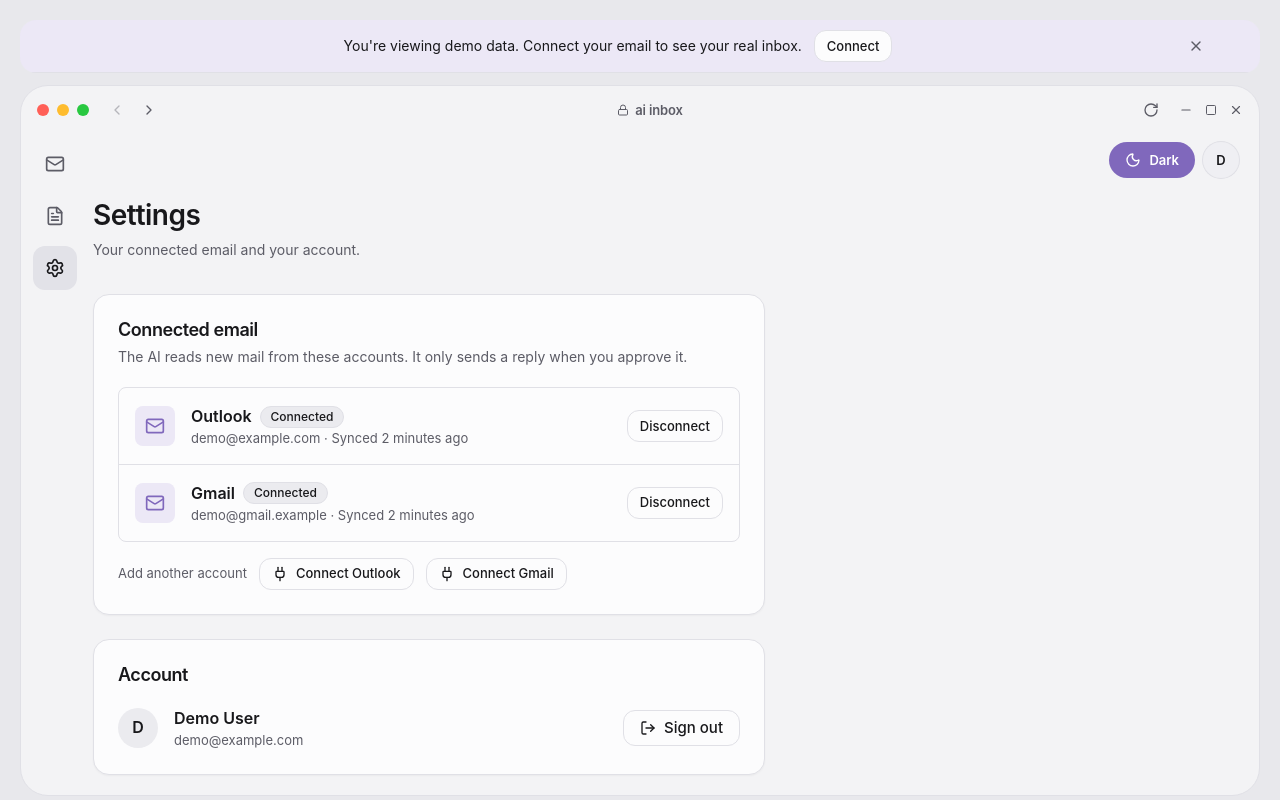
Scenario: app › says so beside the button when connecting fails before leaving the page
The image size is (1280, 800).
Expected: the text "demo@example.com · Synced 2 minutes ago" is shown, 191,430 -> 468,446
What coordinates should you click on to do the following:
click the button "Connect Gmail"
I would click on:
 (496, 574)
Its box is 426,558 -> 567,590.
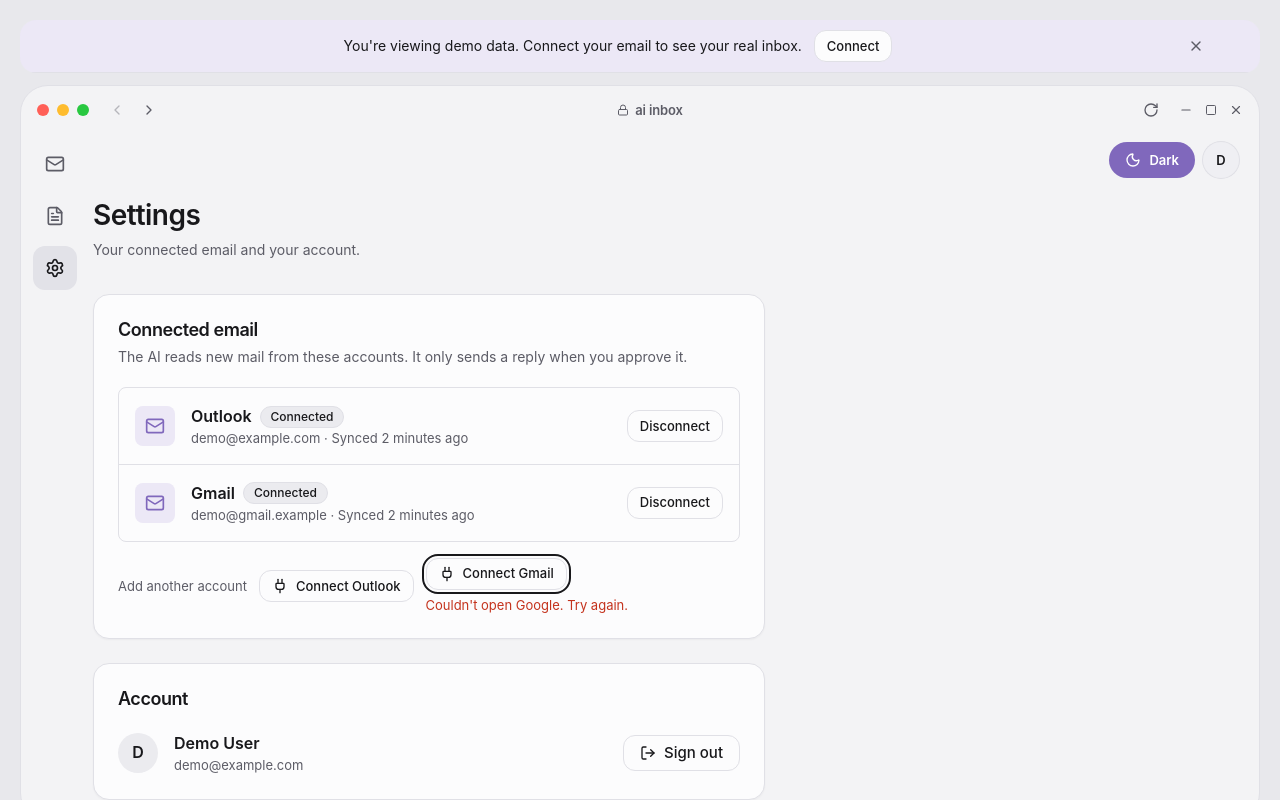
Now the message reads "Couldn't open Google. Try again.", box 426,596 -> 628,614
Trying again works and clears the error.
What coordinates should you click on to do the following:
click the button "Connect Gmail"
I would click on:
 (496, 574)
Its box is 426,558 -> 567,590.
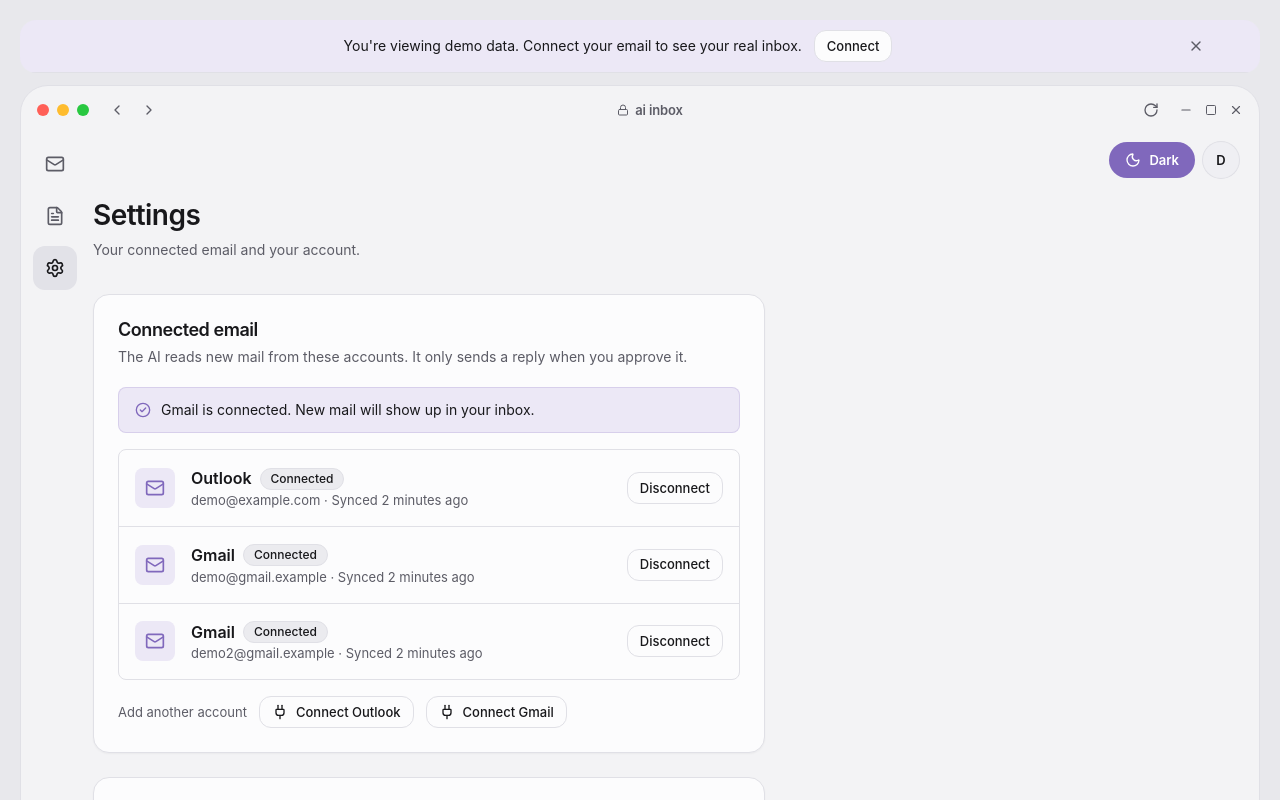
Now the message shows "Gmail is connected", box 118,387 -> 740,433
